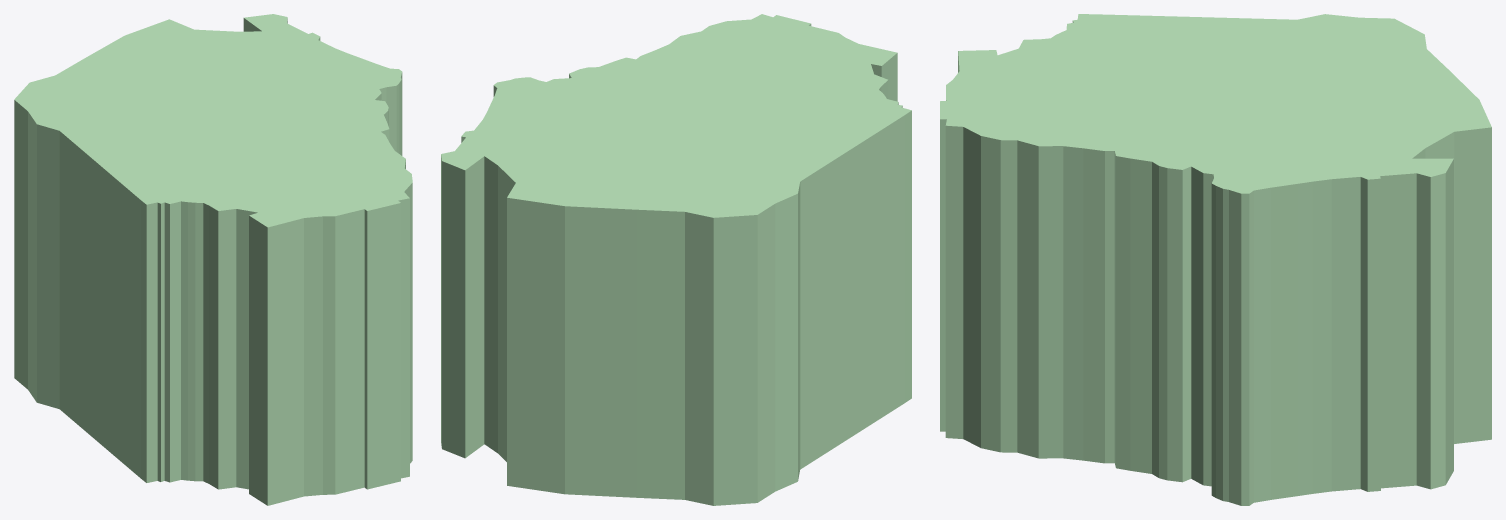
The model's file is perth amboy.glb.
3 renders of one model, left to right at view 1: azimuth 30°, elevation 25°; view 2: azimuth 150°, elevation 25°; view 3: azimuth 270°, elevation 25°, orthographic. The views are drawn at different scales.
Parts seen in each view (by area): view 1: Plane.012; view 2: Plane.012; view 3: Plane.012.
Boxes of the visible parts, box(x1,y1,x2,y2) form: Plane.012: box(14, 14, 412, 505); Plane.012: box(441, 14, 911, 505); Plane.012: box(940, 14, 1491, 505).
Size of the model in its own units: 0.4513 by 0.3658 by 0.5859.
